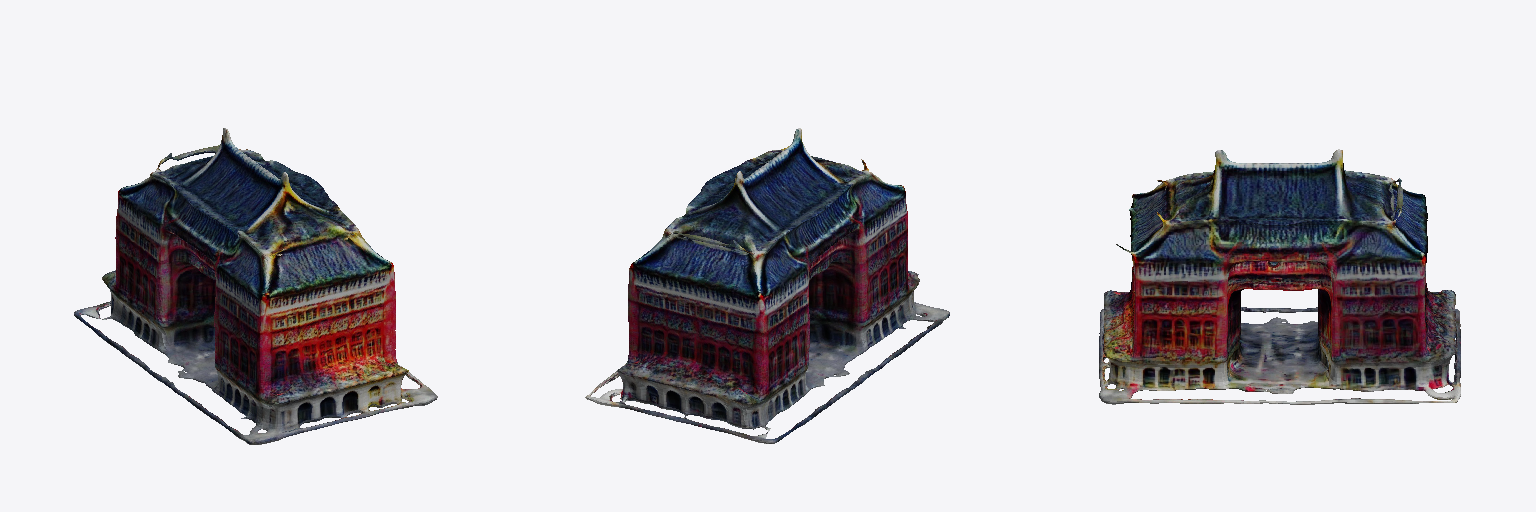
3 views of the same model, side by side, from view 1: azimuth 30°, elevation 25°; view 2: azimuth 150°, elevation 25°; view 3: azimuth 270°, elevation 25° (orthographic).
Visible parts, largest first — view 1: mesh; view 2: mesh; view 3: mesh.
Boxes of the visible parts, x1=… form: mesh: x1=74, y1=128, x2=437, y2=444; mesh: x1=585, y1=128, x2=949, y2=443; mesh: x1=1099, y1=149, x2=1460, y2=404.
Size of the model in its own units: 0.6194 by 0.6449 by 0.9968.
Materials: 1 (1 with a texture image).